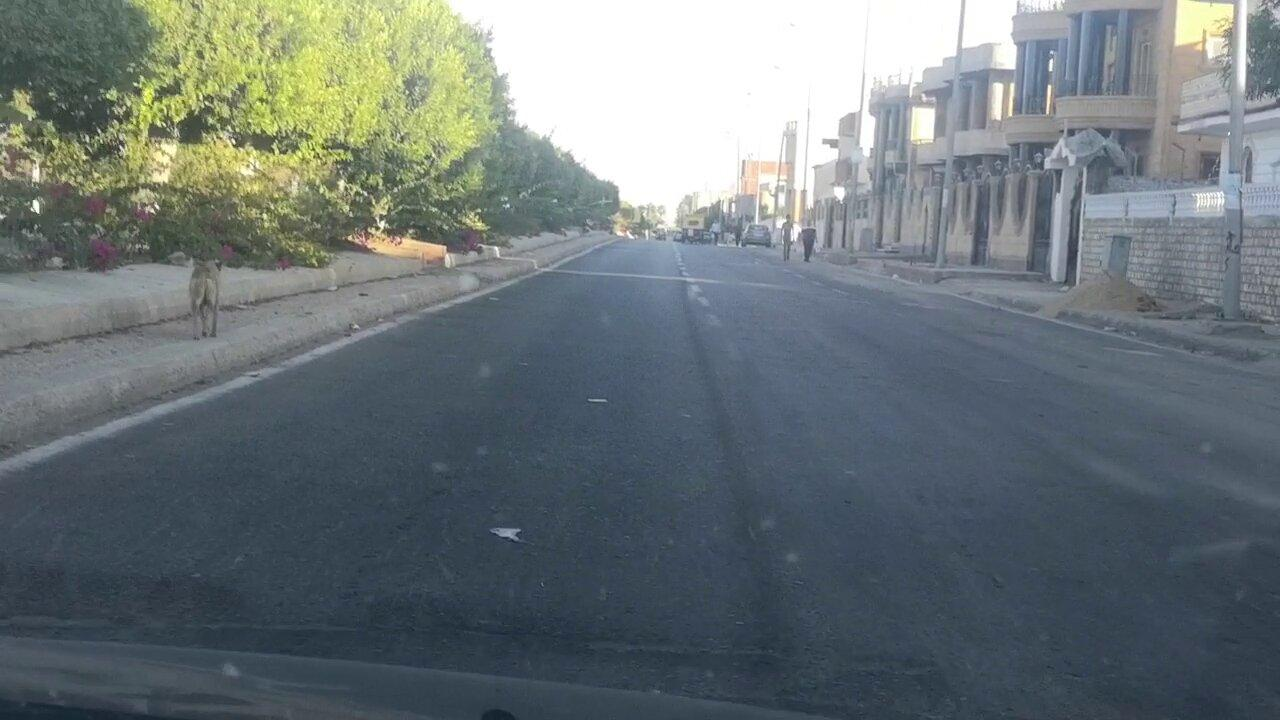Bump: (48, 445, 1280, 720)
